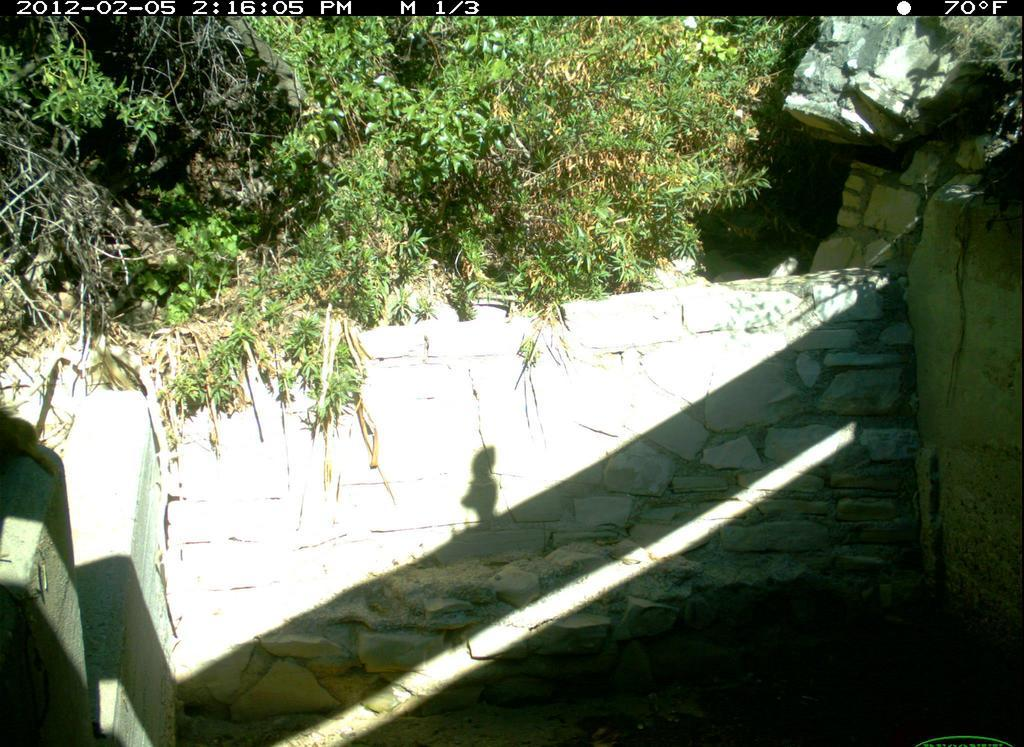squirrel: (4, 404, 62, 491)
